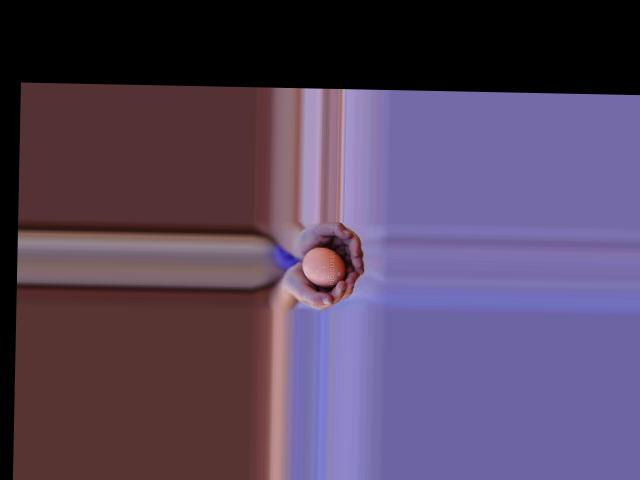egg: (301, 245, 346, 287)
